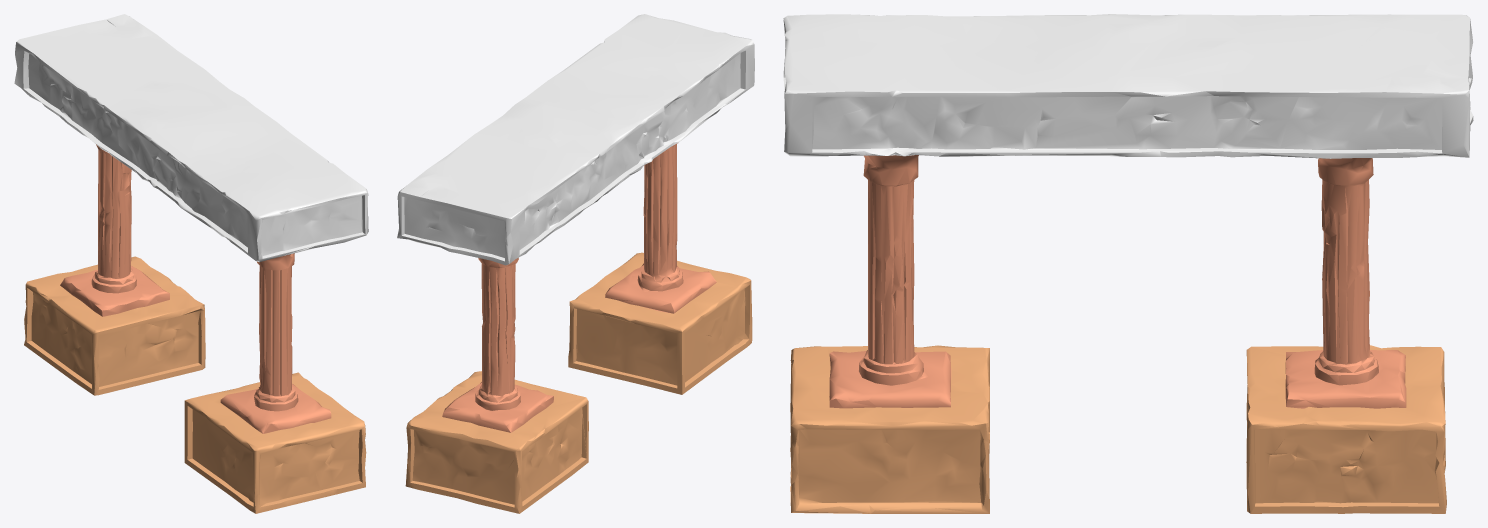
Rendered from Pillar4_fbx.fbx.
3 renders of one model, left to right at view 1: azimuth 30°, elevation 25°; view 2: azimuth 150°, elevation 25°; view 3: azimuth 270°, elevation 25°, orthographic. The views are drawn at different scales.
Visible parts, largest first — view 1: Pilar_4; view 2: Pilar_4; view 3: Pilar_4.
Part boxes in pixels (box(x1,y1,x2,y2)): Pilar_4: box(14, 14, 368, 513); Pilar_4: box(397, 14, 754, 513); Pilar_4: box(783, 14, 1473, 513).
Bounding box in the file's own units: 4.65 × 11.49 × 16.94.
